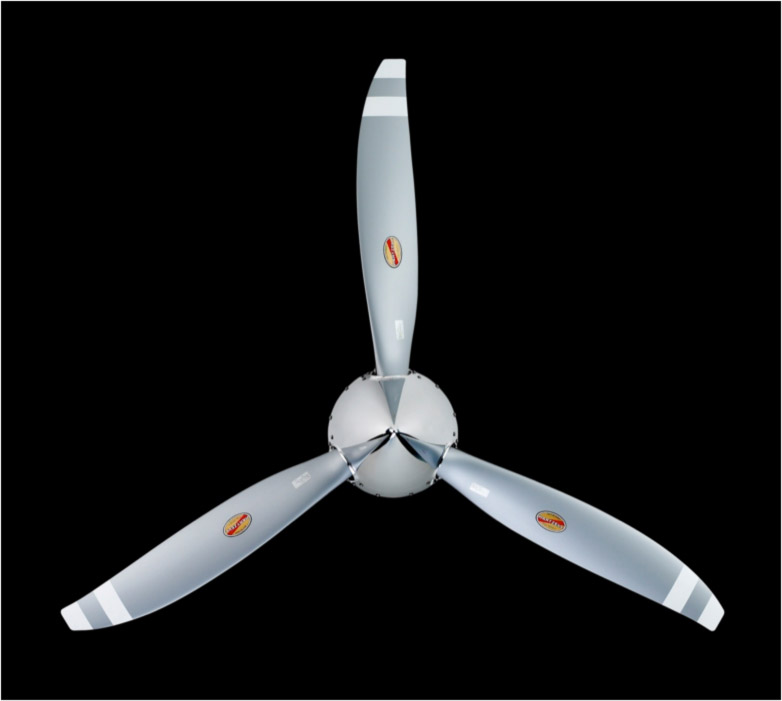Propeller: (102, 151, 661, 618)
